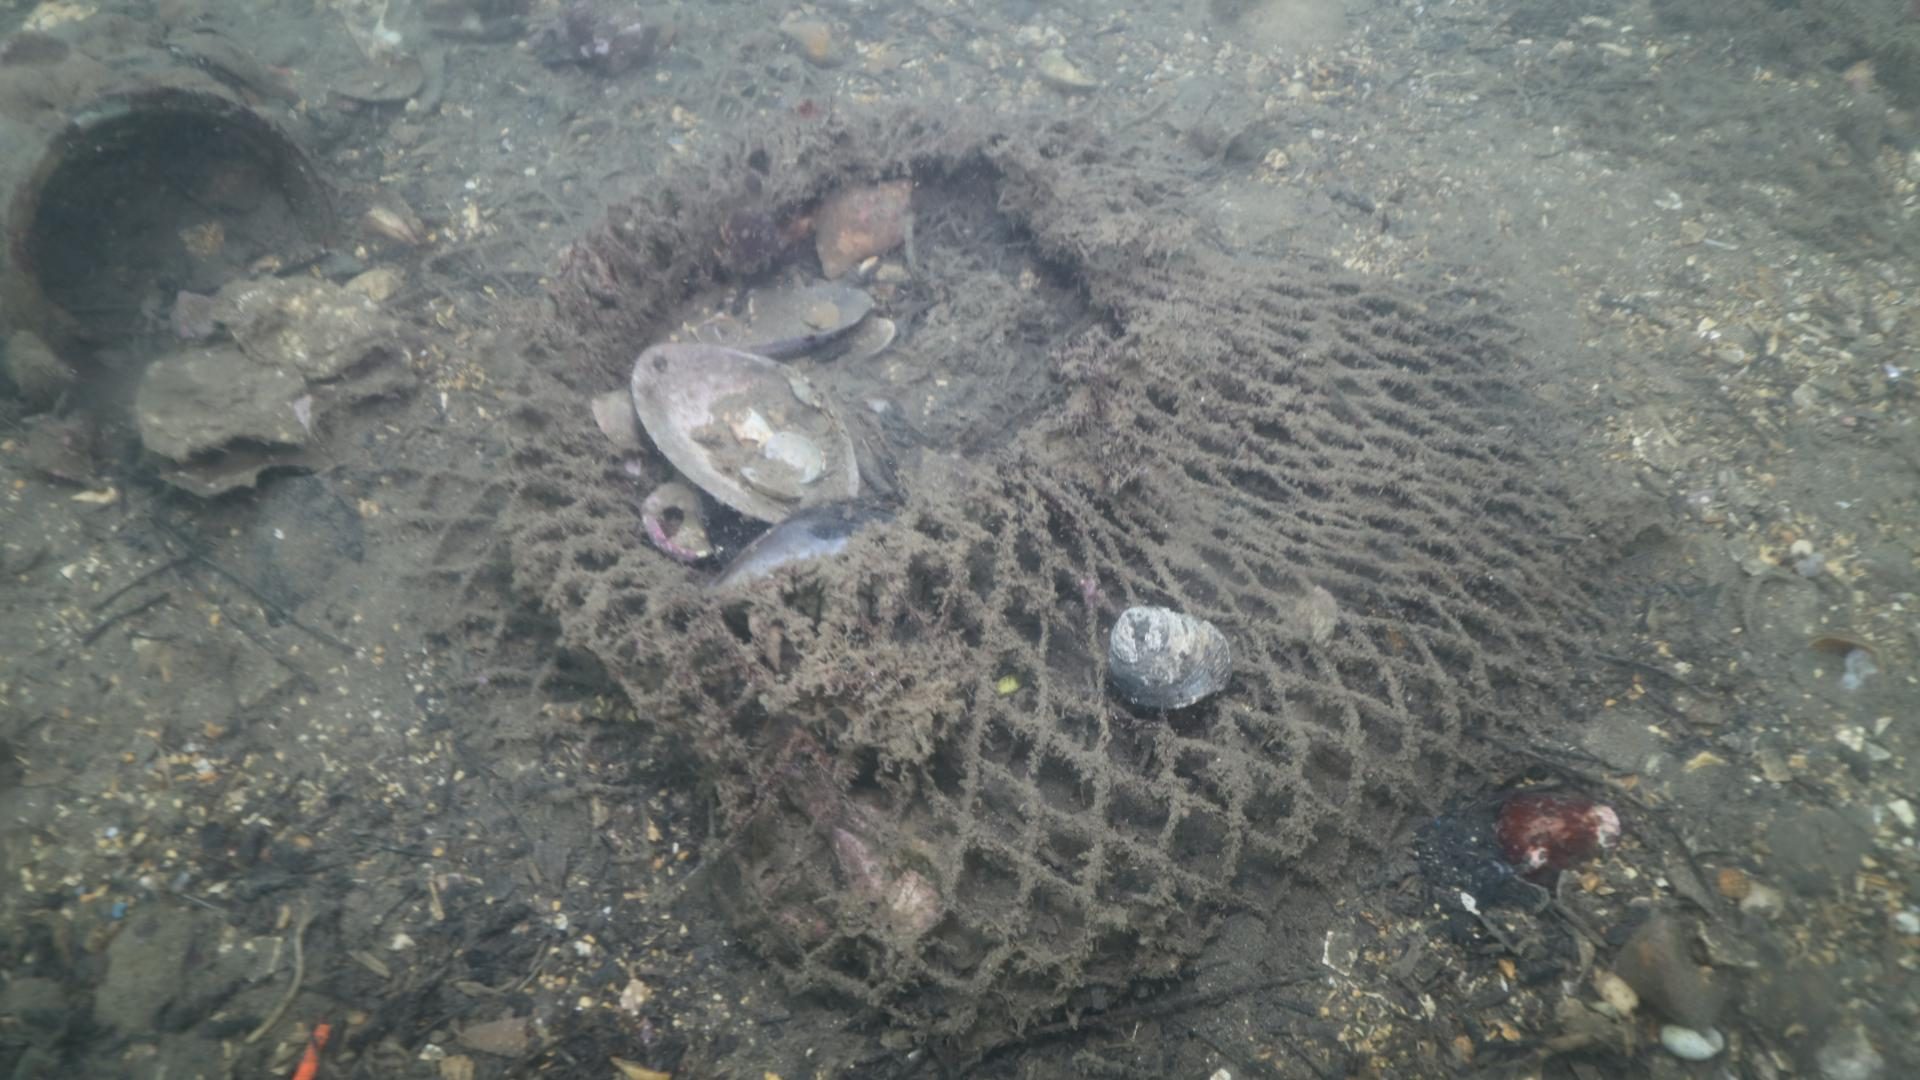fish net: (443, 105, 1598, 1029)
